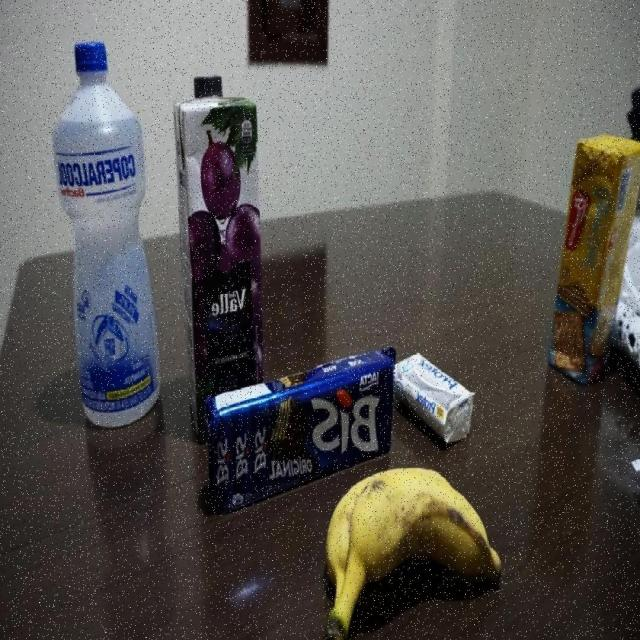AlcoholBottle: (53, 41, 162, 432)
Banana: (318, 464, 501, 640)
Cracker: (545, 130, 640, 390)
Popcorn: (630, 435, 640, 507)
Soap: (392, 351, 475, 445)
